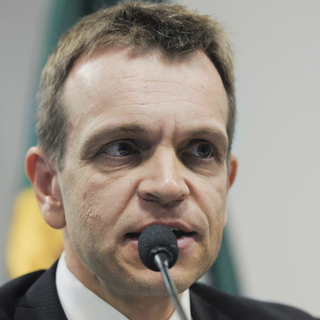eye: (93, 136, 147, 164), (178, 138, 221, 165)
